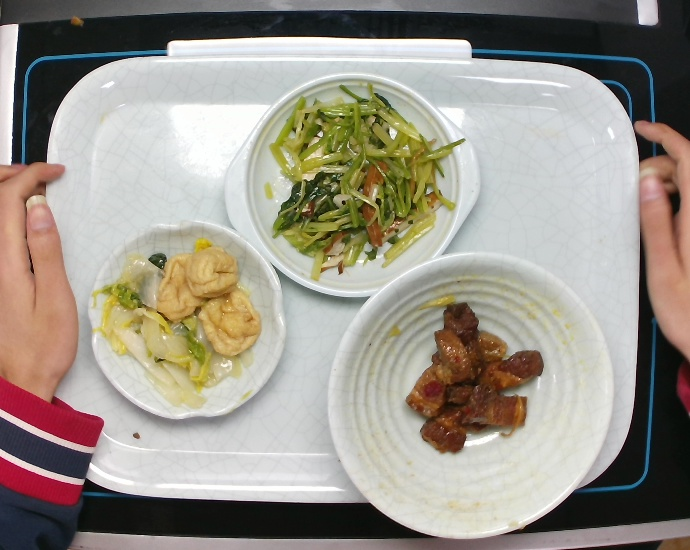JYsf-Ao_Yuan_Wan: (83, 217, 290, 423)
JYsf-Shuang_Er_Pan: (220, 68, 484, 301)
JYsf-Xiao_Tang_Wan: (323, 247, 618, 544)
